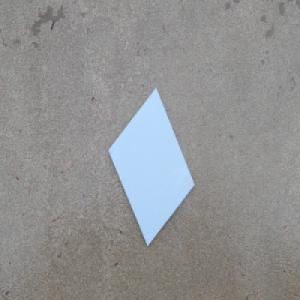PaintChip: (107, 85, 196, 248)
